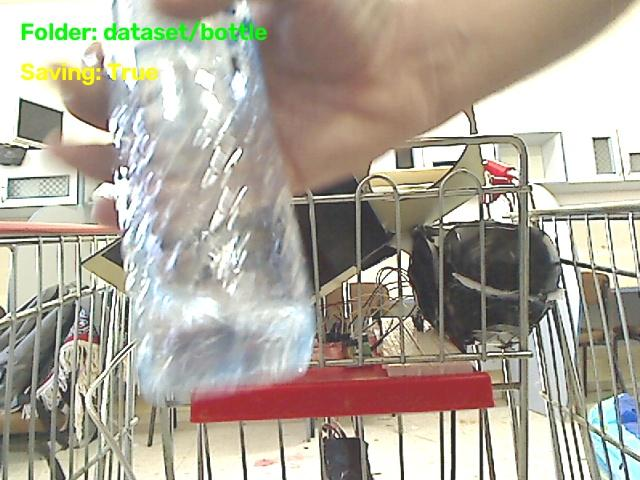Bottle: (109, 0, 314, 402)
